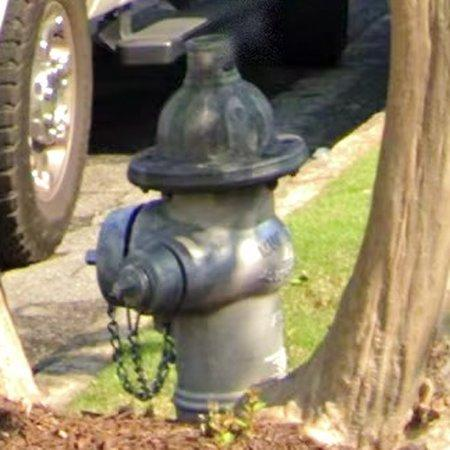a fire hydrant: (96, 34, 309, 420)
